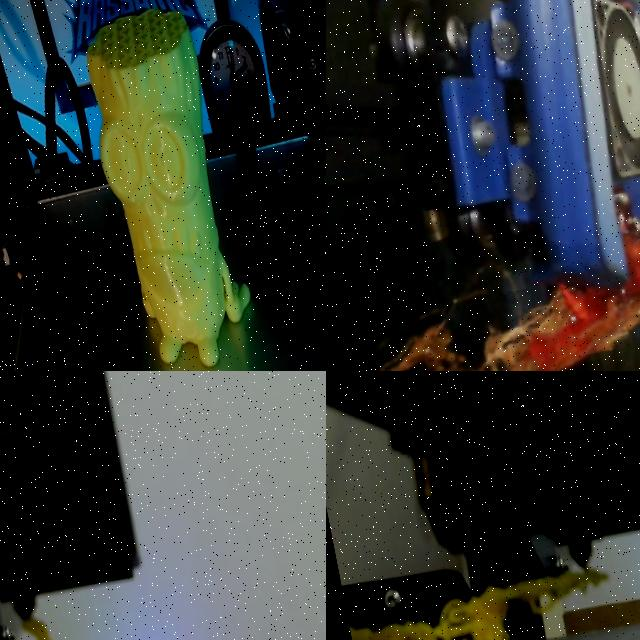spaghetti: (381, 188, 640, 371), (467, 217, 640, 371), (350, 569, 606, 640)
